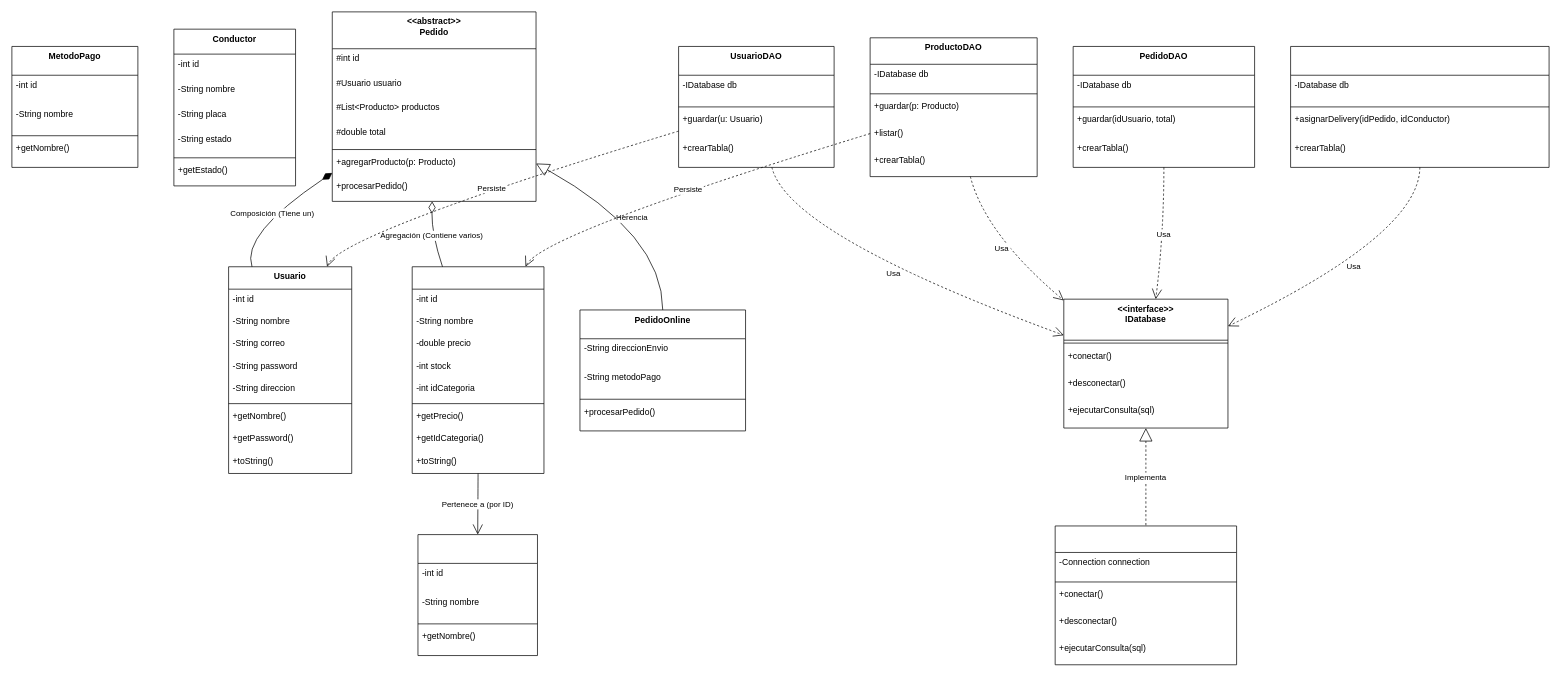
This 1561x677 diagram has some shape labels left out. Each missing label, with the box of its shape:
Categoria: (417, 534, 537, 656)
DeliveryDAO: (1290, 46, 1549, 167)
Producto: (411, 266, 544, 473)
SQLiteDatabase: (1054, 525, 1237, 665)
